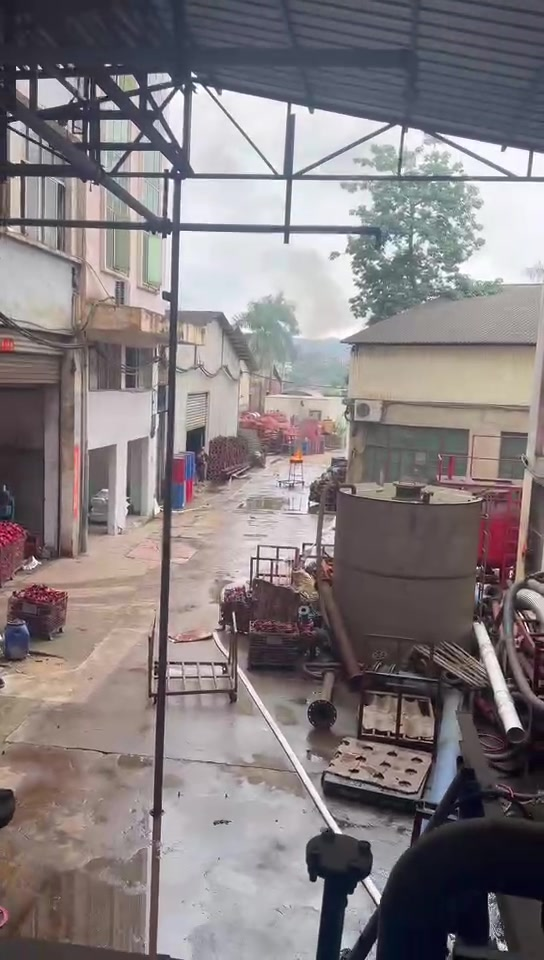fire: (289, 445, 302, 460)
